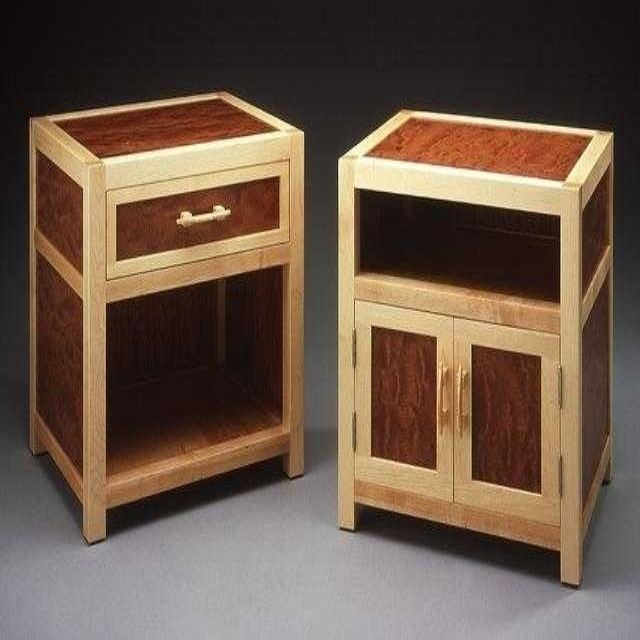obstacle: (338, 111, 612, 583), (30, 93, 303, 541)
